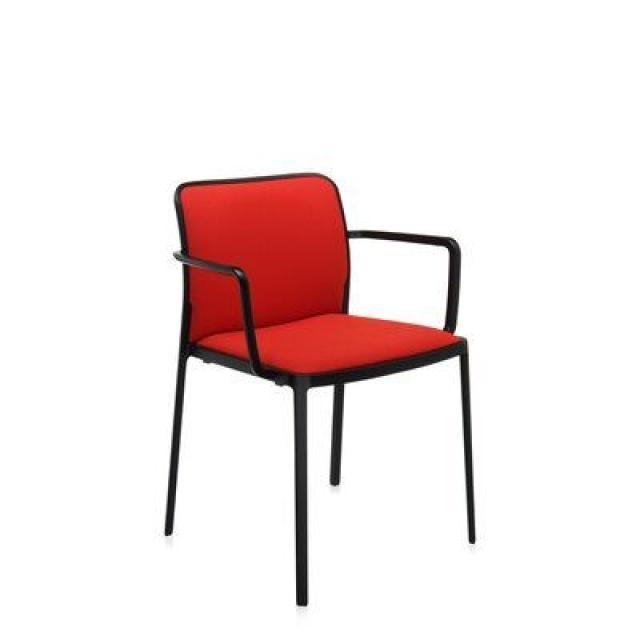obstacle: (162, 169, 476, 606)
